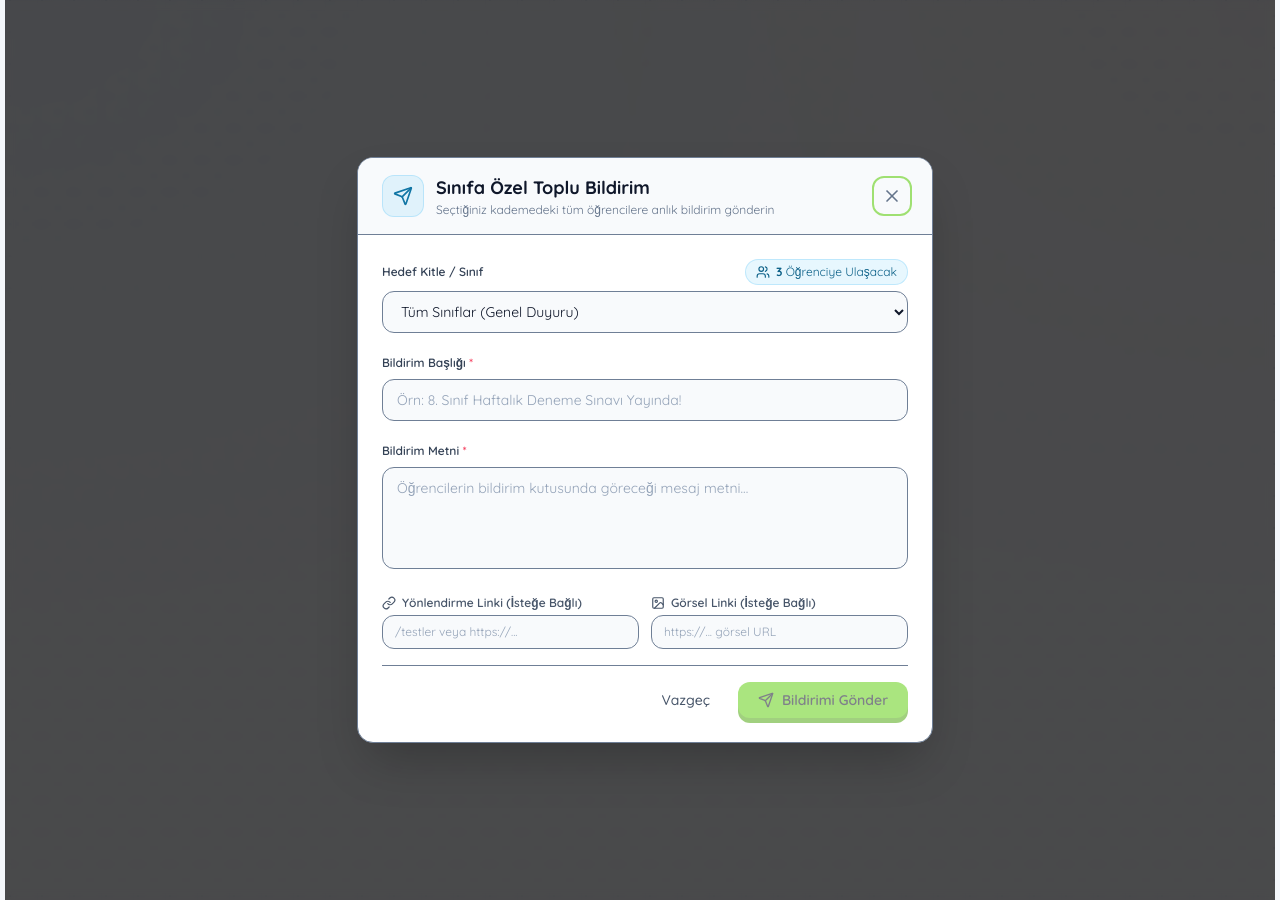
it: AdminBroadcastModal › renders correctly and displays recipient count based on selected grade
This screenshot has width=1280, height=900.
Check: the heading "Sınıfa Özel Toplu Bildirim" is shown, box [436, 176, 650, 199]
Check: the text "3" is shown, box [776, 264, 782, 279]
Select "8. Sınıf (LGS Grubu)" in the dropdown labelled "Hedef Kitle / Sınıf" at (645, 312), box [382, 291, 908, 333]
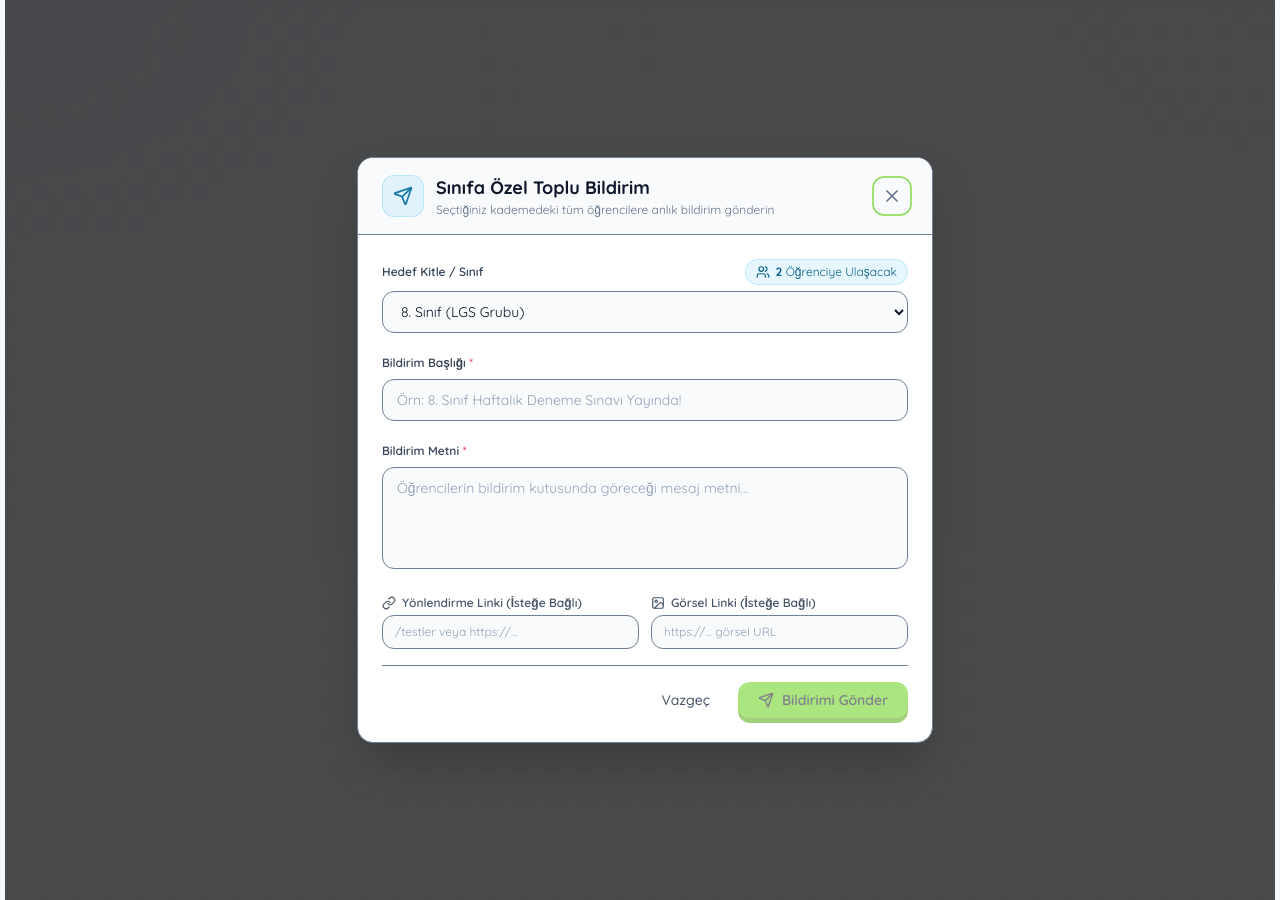
Check: the text "2" is shown, box [776, 264, 782, 279]
